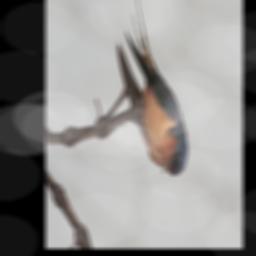Swallow: (99, 0, 210, 186)
